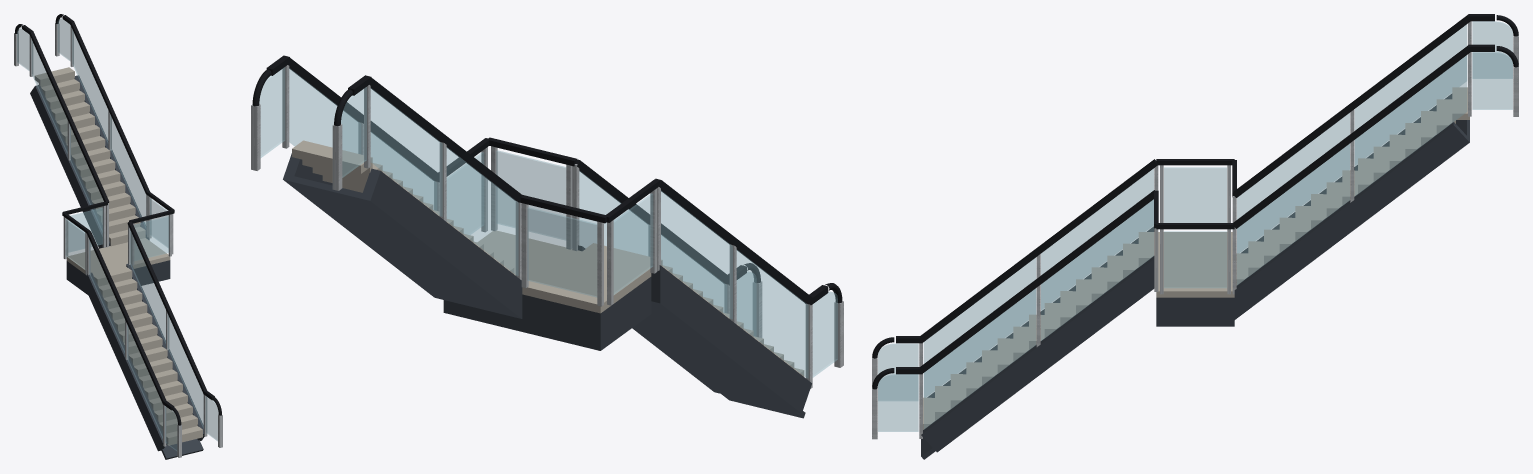
The model's file is stair-rightForward.glb.
The picture shows the model from 3 angles, left to right: view 1: azimuth 30°, elevation 25°; view 2: azimuth 150°, elevation 25°; view 3: azimuth 270°, elevation 25°; orthographic projection. The views are drawn at different scales.
Parts seen in each view (by area): view 1: StairRightForward, stair-riser (×29), stair-stringer (×4), stair-landing, stair-landing-surface, stair-landing-frame, stair-soffit; view 2: StairRightForward, stair-landing, stair-stringer (×3), stair-soffit (×2), stair-landing-surface, stair-landing-frame, stair-tread; view 3: StairRightForward, stair-stringer (×2), stair-landing, stair-landing-surface, stair-landing-frame.
Part boxes in pixels (x1,y1,x2,y2): StairRightForward: (14,14,222,457); stair-riser (×29): (39,70,202,445); stair-stringer (×4): (30,75,204,451); stair-landing: (62,192,174,275); stair-landing-surface: (66,238,170,274); stair-landing-frame: (66,260,170,295); stair-soffit: (161,439,203,459); StairRightForward: (251,55,843,388); stair-landing: (438,137,659,306); stair-stringer (×3): (283,153,811,413); stair-soffit (×2): (290,176,805,418); stair-landing-surface: (478,230,651,313); stair-landing-frame: (443,277,651,350); stair-tread: (292,141,371,173); StairRightForward: (872,14,1518,439); stair-stringer (×2): (921,122,1469,452); stair-landing: (1154,159,1236,294); stair-landing-surface: (1156,232,1234,297); stair-landing-frame: (1156,297,1234,326).
Size of the model in its own units: 2 by 6.31 by 8.25.
5 materials, 1 textured.
